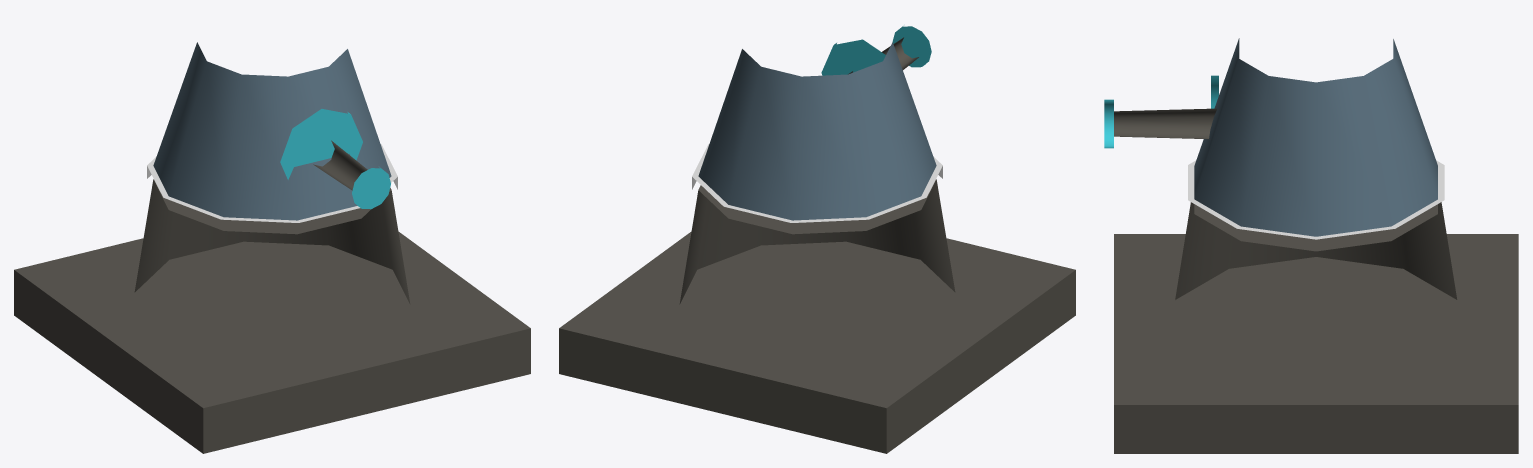
The picture shows the model from 3 angles, left to right: view 1: azimuth 30°, elevation 25°; view 2: azimuth 150°, elevation 25°; view 3: azimuth 270°, elevation 25°; orthographic projection. The views are drawn at different scales.
Visible parts, largest first — view 1: dweller_building_turret_laser; view 2: dweller_building_turret_laser; view 3: dweller_building_turret_laser.
Boxes of the visible parts, x1=… form: dweller_building_turret_laser: x1=14, y1=42, x2=530, y2=453; dweller_building_turret_laser: x1=559, y1=26, x2=1075, y2=453; dweller_building_turret_laser: x1=1104, y1=38, x2=1518, y2=453.
Bounding box in the file's own units: 3 × 2.62 × 3.07.
